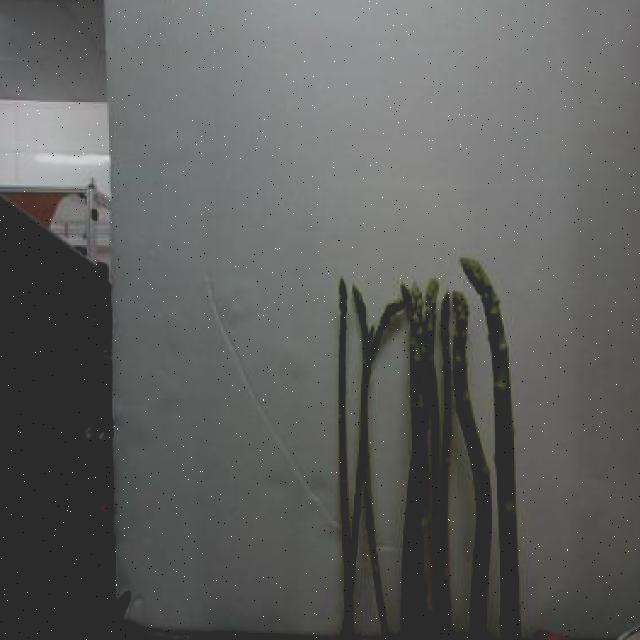aspargus: (461, 257, 524, 640), (449, 290, 494, 640)
